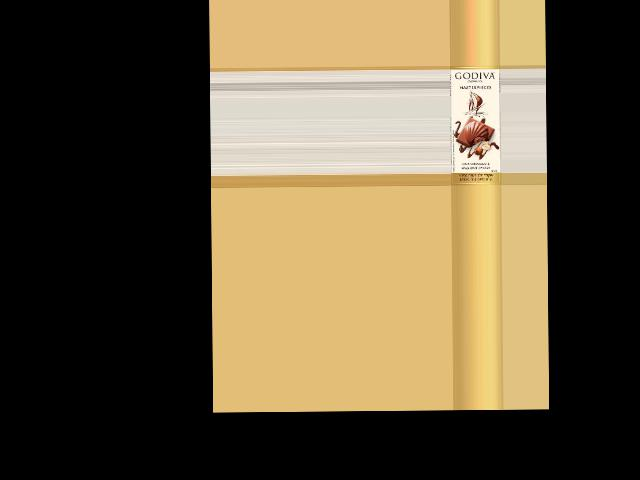chocolate: (450, 65, 501, 185)
